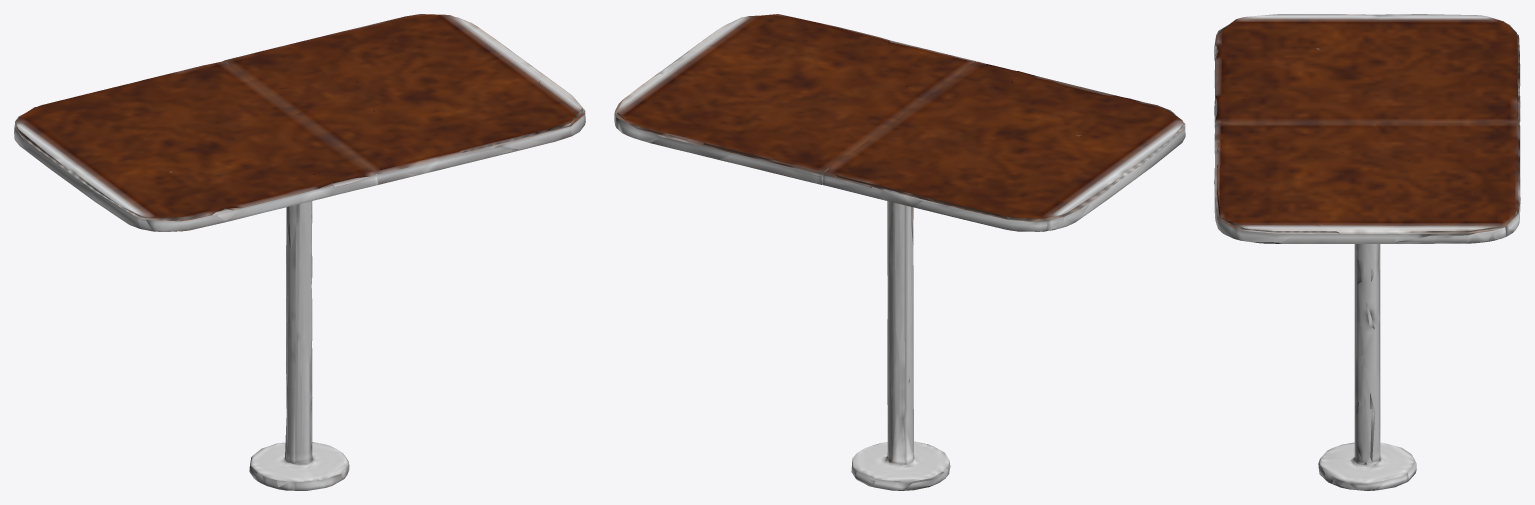
The model's file is cab_table.glb.
3 renders of one model, left to right at view 1: azimuth 30°, elevation 25°; view 2: azimuth 150°, elevation 25°; view 3: azimuth 270°, elevation 25°, orthographic.
Parts seen in each view (by area): view 1: LO; view 2: LO; view 3: LO.
Boxes of the visible parts, <box> form: LO: <box>14,14,585,490</box>; LO: <box>614,14,1185,490</box>; LO: <box>1214,14,1520,490</box>.
Bounding box in the file's own units: 0.9996 × 0.74 × 0.5893.
Materials: 1 (1 with a texture image).
